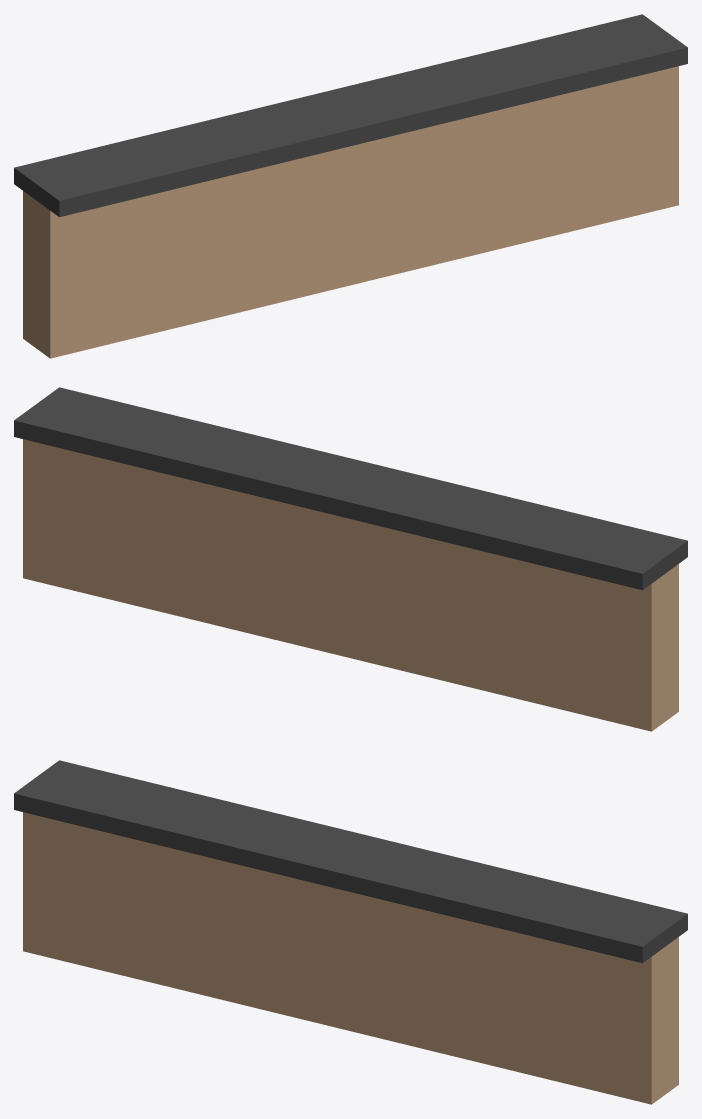
The model's file is KIT_RoofParapet_4m_Warm.glb.
3 views of the same model, one above another, from view 1: azimuth 30°, elevation 25°; view 2: azimuth 150°, elevation 25°; view 3: azimuth 330°, elevation 25° (orthographic).
Parts seen in each view (by area): view 1: KIT_RoofParapet_4m_Warm; view 2: KIT_RoofParapet_4m_Warm; view 3: KIT_RoofParapet_4m_Warm.
Part boxes in pixels (x1,y1,x2,y2): KIT_RoofParapet_4m_Warm: (14,14,687,358); KIT_RoofParapet_4m_Warm: (14,387,687,731); KIT_RoofParapet_4m_Warm: (14,760,687,1104).
Bounding box in the file's own units: 4 × 1 × 0.5.
